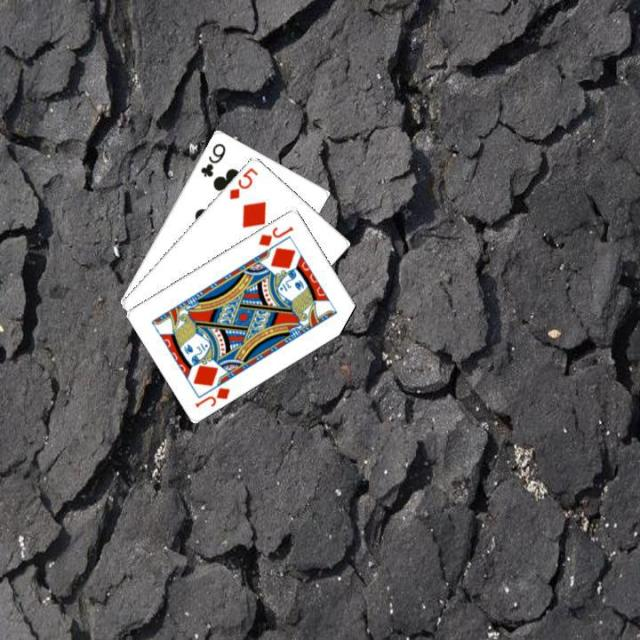5D: (225, 163, 259, 201)
9C: (196, 138, 228, 178)
JD: (254, 221, 295, 248), (191, 383, 232, 410)
